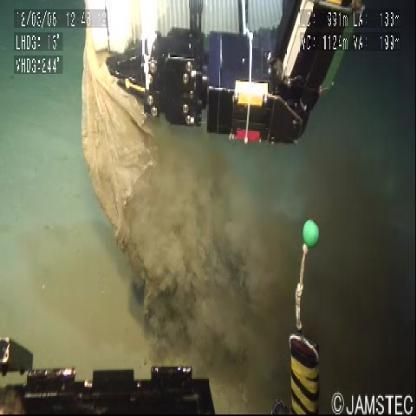Rác: (82, 19, 159, 241)
